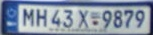character: (35, 8, 47, 28), (101, 9, 112, 29), (134, 8, 144, 29), (123, 9, 134, 28), (22, 8, 33, 26), (78, 9, 88, 28), (63, 9, 73, 27), (113, 9, 122, 28), (50, 9, 60, 26)
